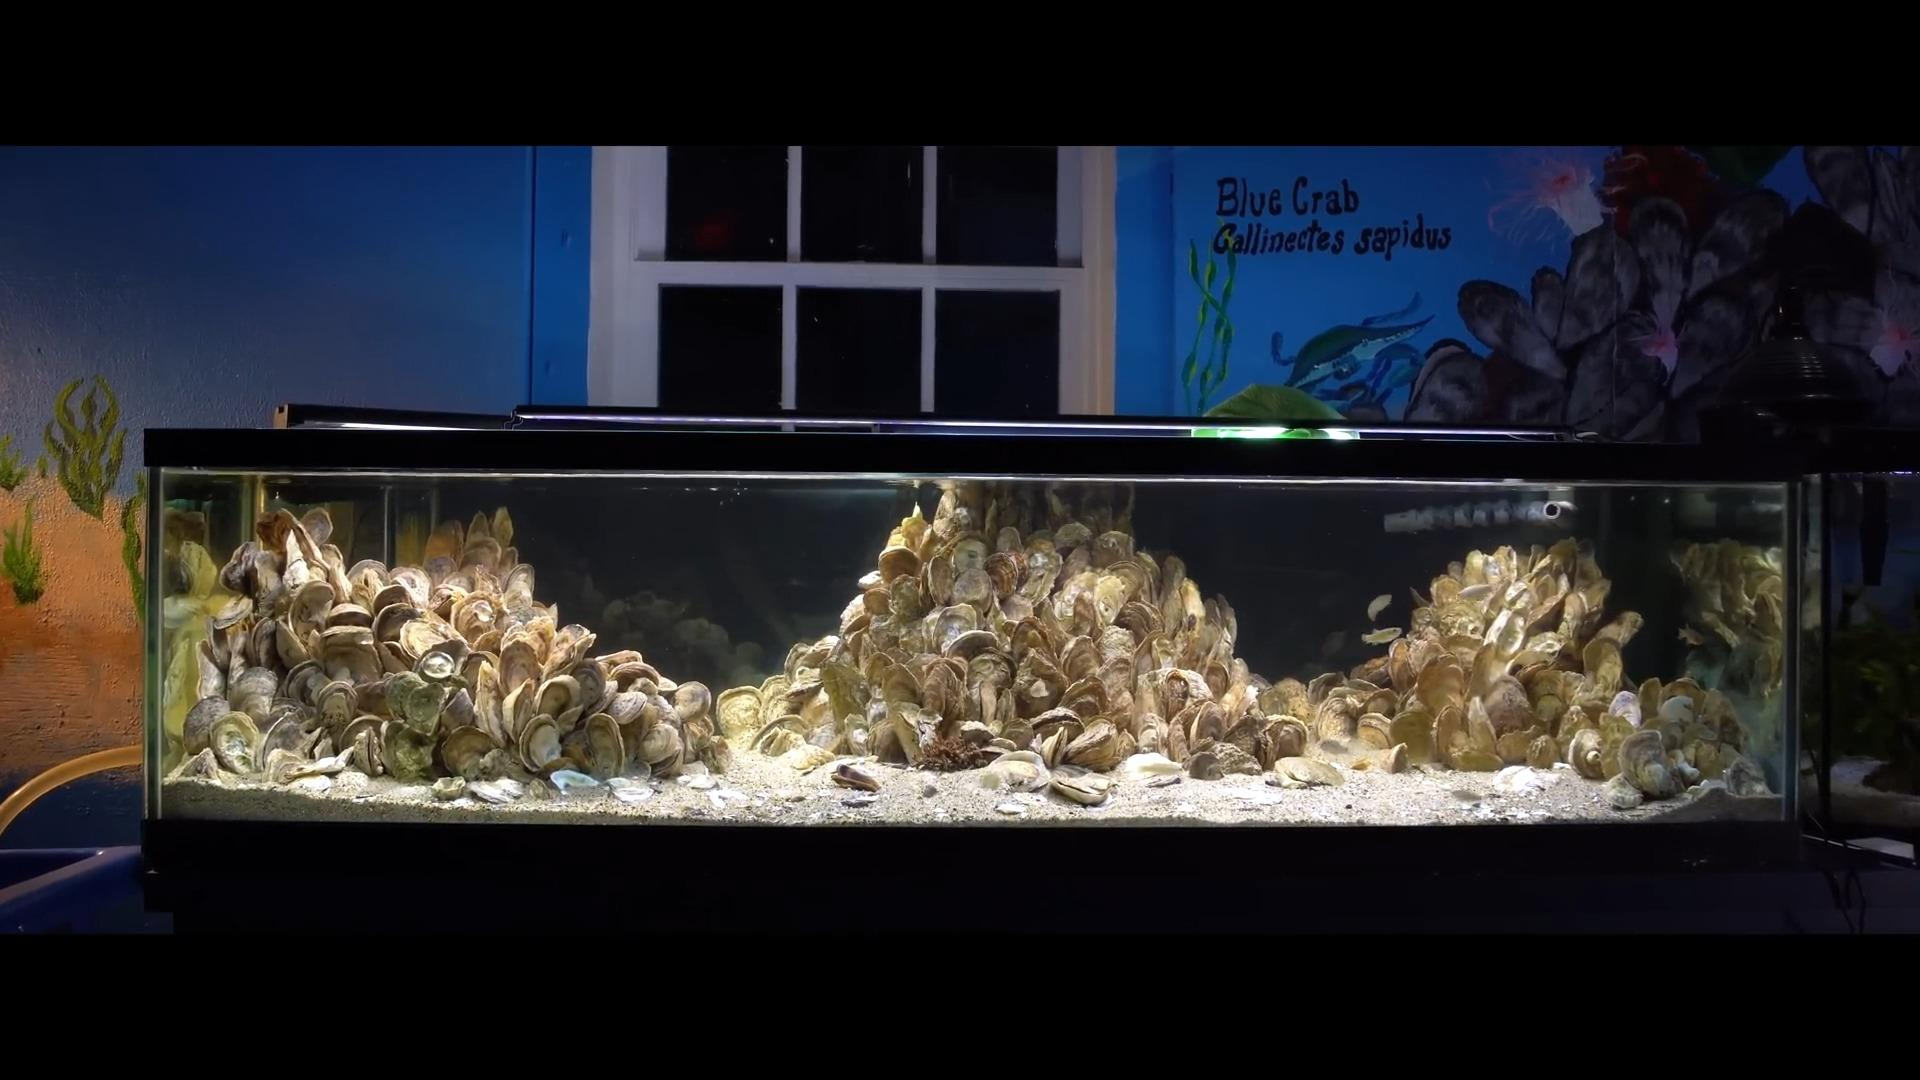Oyster: (1466, 626, 1524, 705), (1618, 728, 1680, 799), (385, 673, 451, 737), (208, 712, 262, 777), (819, 657, 872, 723), (382, 721, 439, 782), (1415, 657, 1469, 720), (1059, 720, 1125, 771), (439, 725, 498, 781), (181, 694, 232, 757), (258, 708, 310, 771), (965, 651, 1015, 716), (228, 665, 281, 724), (713, 684, 767, 740), (981, 749, 1050, 793), (920, 657, 967, 721), (174, 539, 220, 604), (1389, 705, 1437, 766), (398, 616, 458, 665), (287, 579, 338, 636), (584, 713, 628, 778), (498, 638, 543, 699), (282, 746, 355, 783), (1058, 675, 1109, 725), (314, 678, 360, 733), (1033, 720, 1081, 771), (931, 603, 978, 654), (415, 638, 469, 683), (636, 720, 683, 770), (1222, 713, 1270, 764), (1162, 665, 1215, 709), (1091, 572, 1134, 626), (520, 715, 560, 771), (750, 717, 807, 758), (1019, 667, 1068, 715), (1262, 715, 1311, 762), (537, 673, 583, 723), (1183, 698, 1228, 748), (347, 724, 388, 778), (219, 542, 260, 596), (194, 641, 228, 704), (551, 622, 597, 669), (1046, 774, 1110, 807), (669, 679, 715, 724), (985, 550, 1027, 599), (944, 626, 1000, 663), (1569, 728, 1609, 779), (948, 563, 994, 607), (877, 545, 923, 588), (886, 574, 927, 622), (1097, 624, 1138, 673), (1026, 707, 1084, 741), (604, 687, 651, 728), (204, 591, 255, 628), (1114, 599, 1158, 641), (948, 535, 990, 579), (869, 717, 906, 766), (174, 746, 224, 782), (1091, 529, 1135, 568), (694, 732, 733, 777), (1356, 711, 1396, 753), (1494, 727, 1536, 767), (299, 505, 335, 551), (1448, 748, 1503, 774), (1526, 733, 1560, 771), (1052, 521, 1095, 550), (1378, 741, 1410, 775), (1673, 756, 1704, 789)
